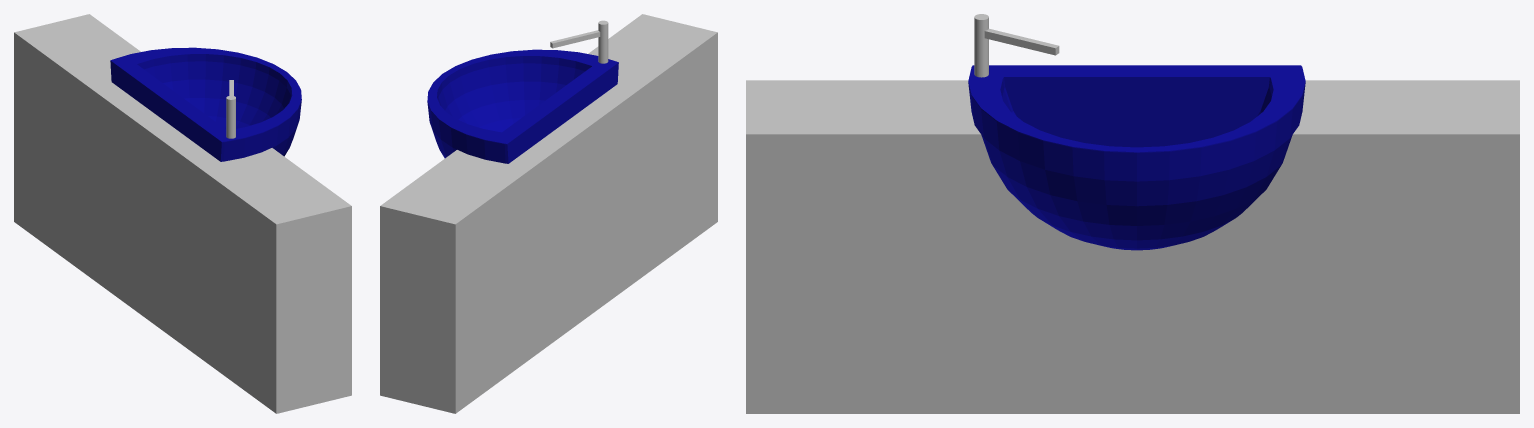
The model's file is sink.obj.
3 views of the same model, side by side, from view 1: azimuth 30°, elevation 25°; view 2: azimuth 150°, elevation 25°; view 3: azimuth 270°, elevation 25° (orthographic). The views are drawn at different scales.
Parts seen in each view (by area): view 1: Counter_Cube, Basin_Sphere.002, Cylinder; view 2: Counter_Cube, Basin_Sphere.002, Cylinder, Cube.001_Cube.006; view 3: Counter_Cube, Basin_Sphere.002, Cylinder, Cube.001_Cube.006.
Boxes of the visible parts, left/top/right/bottom form: Counter_Cube: left=14, top=14, right=351, bottom=413; Basin_Sphere.002: left=110, top=47, right=301, bottom=161; Cylinder: left=226, top=95, right=235, bottom=138; Counter_Cube: left=380, top=14, right=717, bottom=413; Basin_Sphere.002: left=427, top=49, right=618, bottom=163; Cylinder: left=598, top=20, right=608, bottom=63; Cube.001_Cube.006: left=550, top=30, right=600, bottom=48; Counter_Cube: left=746, top=80, right=1519, bottom=413; Basin_Sphere.002: left=968, top=65, right=1305, bottom=250; Cylinder: left=974, top=14, right=988, bottom=77; Cube.001_Cube.006: left=984, top=28, right=1059, bottom=55.
Bounding box in the file's own units: 0.6287 × 1.05 × 2.
